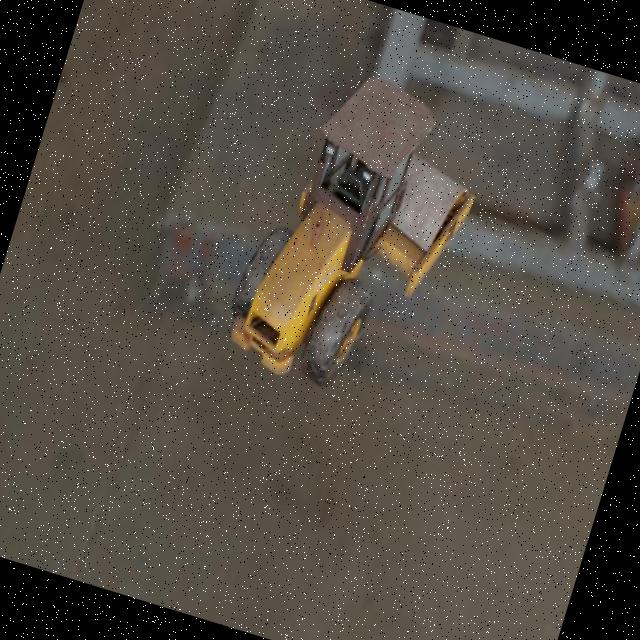Roller: (214, 54, 499, 415)
